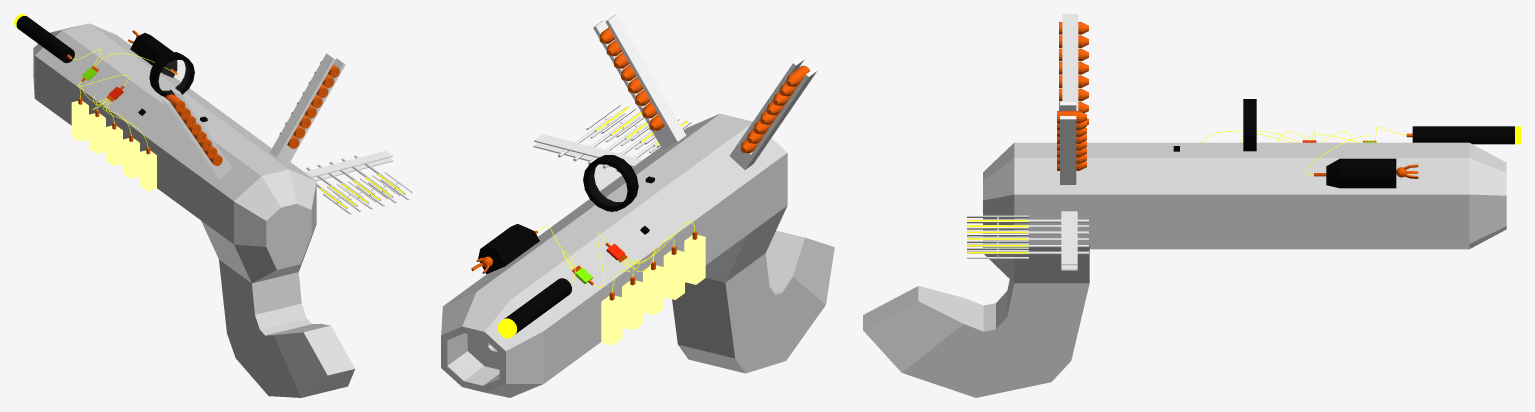
Rendered from multitool.glb.
3 views of the same model, side by side, from view 1: azimuth 30°, elevation 25°; view 2: azimuth 150°, elevation 25°; view 3: azimuth 270°, elevation 25° (orthographic). The views are drawn at different scales.
Parts seen in each view (by area): view 1: Body, Battery.001, Cube, Cylinder.003, Cube.012, Flashlight.001, Cube.017, Cube.014, Cylinder, Cylinder.002; view 2: Body, Battery.001, Cube, Cylinder.003, Cube.012, Flashlight.001, Cube.014, Cylinder, Cylinder.002, Cube.017, Mesh.006, Mesh.005 (+1 smaller); view 3: Body, Cube.014, Flashlight.001, Cube.012, Cube, Cylinder.002, Cube.017, Cylinder, Cylinder.003, Mesh.006, Mesh.005, Mesh.003 (+2 smaller).
Part boxes in pixels (bbox=[...]): Body: bbox=[33, 23, 354, 397]; Battery.001: bbox=[71, 97, 156, 191]; Cube: bbox=[269, 53, 345, 163]; Cylinder.003: bbox=[149, 52, 194, 97]; Cube.012: bbox=[160, 87, 232, 179]; Flashlight.001: bbox=[14, 14, 74, 63]; Cube.017: bbox=[304, 151, 393, 180]; Cube.014: bbox=[130, 33, 177, 77]; Cylinder: bbox=[279, 61, 339, 148]; Cylinder.002: bbox=[165, 94, 222, 165]; Body: bbox=[441, 113, 834, 397]; Battery.001: bbox=[601, 231, 705, 345]; Cube: bbox=[593, 14, 685, 148]; Cylinder.003: bbox=[583, 155, 638, 211]; Cube.012: bbox=[729, 57, 817, 169]; Flashlight.001: bbox=[497, 278, 571, 338]; Cube.014: bbox=[478, 224, 539, 274]; Cylinder: bbox=[599, 27, 664, 130]; Cylinder.002: bbox=[741, 65, 809, 153]; Cube.017: bbox=[533, 134, 642, 167]; Mesh.006: bbox=[558, 103, 629, 157]; Mesh.005: bbox=[573, 107, 641, 161]; Body: bbox=[863, 142, 1506, 397]; Cube.014: bbox=[1314, 158, 1396, 188]; Flashlight.001: bbox=[1406, 126, 1520, 144]; Cube.012: bbox=[1062, 14, 1078, 110]; Cube: bbox=[1060, 102, 1076, 184]; Cylinder.002: bbox=[1059, 22, 1088, 124]; Cube.017: bbox=[1061, 211, 1077, 270]; Cylinder: bbox=[1057, 111, 1086, 170]; Cylinder.003: bbox=[1243, 99, 1256, 151]; Mesh.006: bbox=[967, 247, 1088, 258]; Mesh.005: bbox=[967, 240, 1088, 251]; Mesh.003: bbox=[967, 227, 1088, 237].
Bounding box in the file's own units: 0.5462 × 0.6678 × 1.21.
